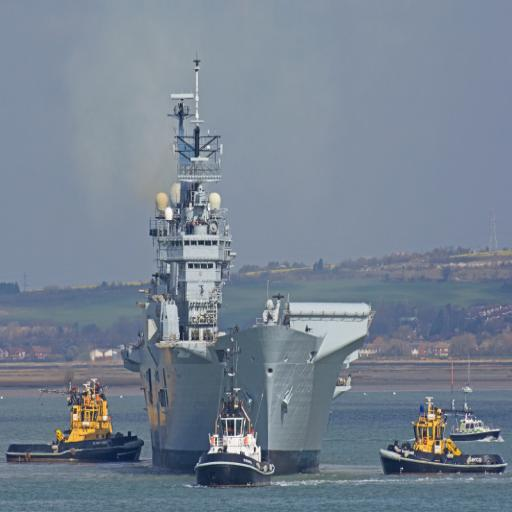Portanaves: (127, 65, 375, 480)
